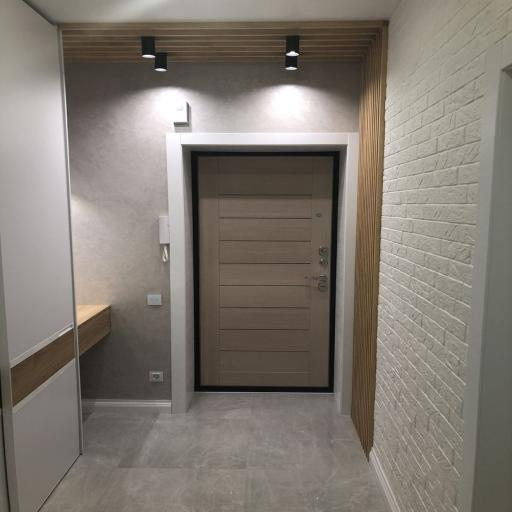child: (194, 154, 339, 390)
